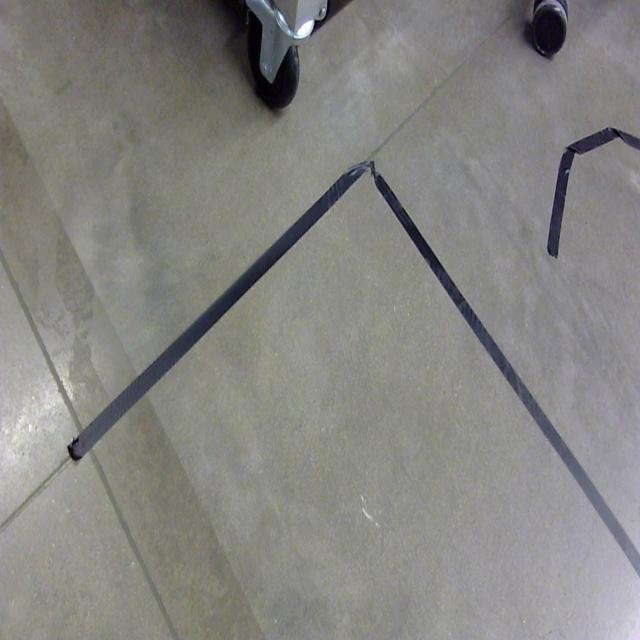tape: (374, 173, 640, 580), (68, 160, 372, 462), (547, 128, 640, 260)
